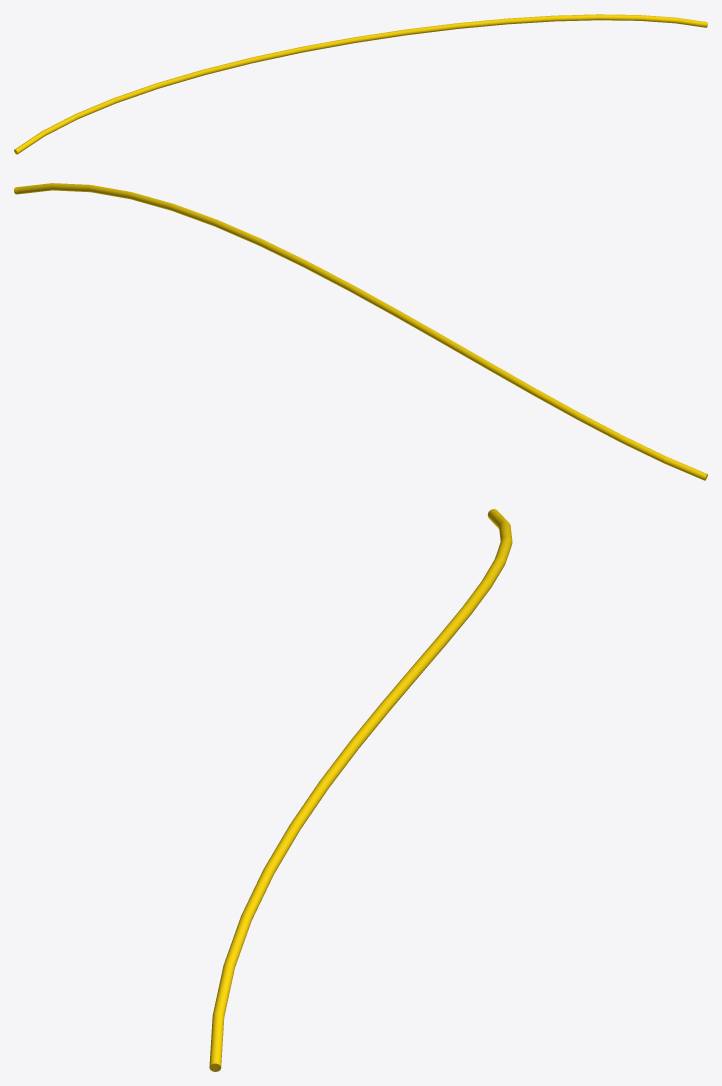
The model's file is Event_420094457_track_50.fbx.
3 renders of one model, top to bottom at view 1: azimuth 30°, elevation 25°; view 2: azimuth 150°, elevation 25°; view 3: azimuth 270°, elevation 25°, orthographic. The views are drawn at different scales.
Parts seen in each view (by area): view 1: Model; view 2: Model; view 3: Model.
Boxes of the visible parts, <box> form: Model: <box>14,14,707,154</box>; Model: <box>14,183,707,480</box>; Model: <box>209,509,512,1071</box>.
Bounding box in the file's own units: 4.9 × 0.4871 × 1.03.
